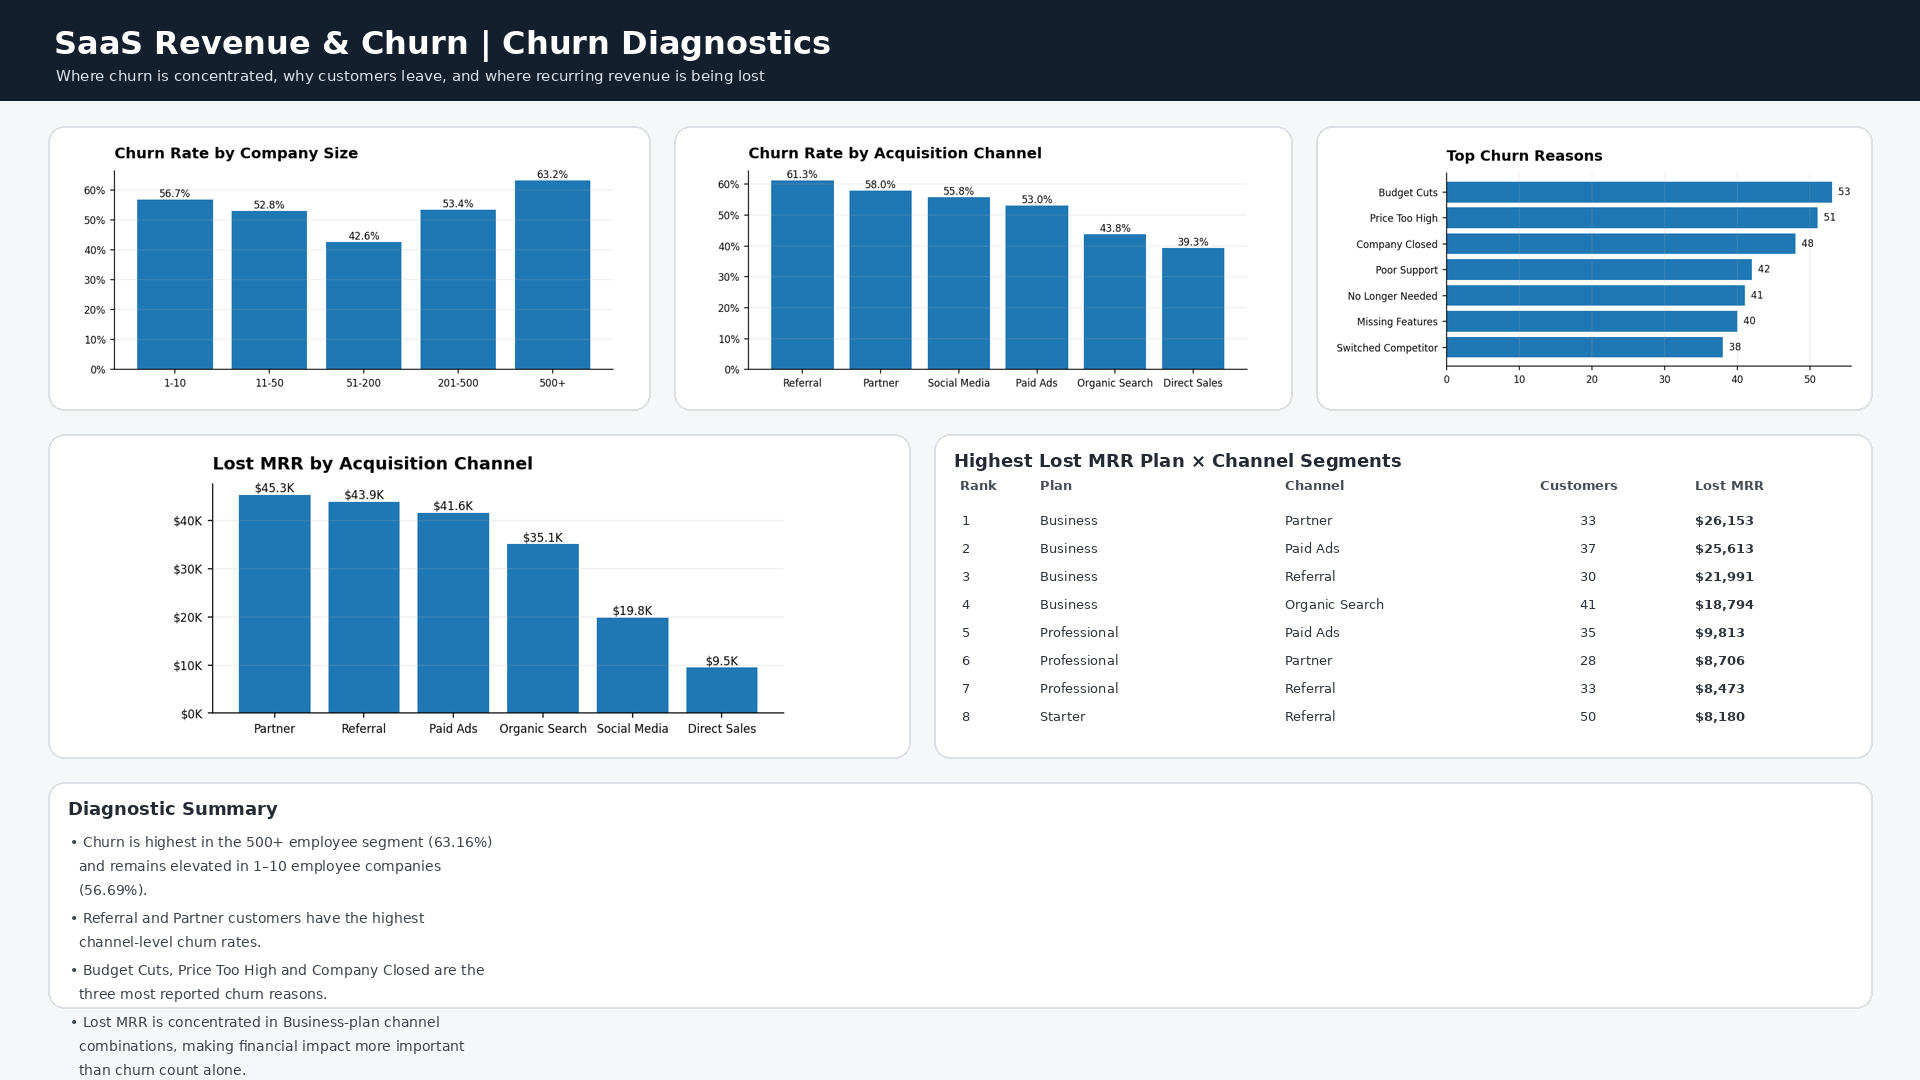

Layout of this report page (visuals, bound fields, positions):
{"tool":"powerbi","page":{"name":"Churn Diagnostics","canvas":[1920,1080],"ordinal":1},"visuals":[{"type":"textbox","box":[10,0,280,280],"z":0},{"type":"textbox","box":[16,16,1880,50],"z":1000},{"type":"clusteredColumnChart","title":"Churn Rate by Company Size","fields":{"Category":["subscriptions.company_size"],"Y":["subscriptions.Churn Rate"]},"box":[16,90,610,230],"z":2000},{"type":"clusteredColumnChart","title":"Churn Rate by Acquisition Channel","fields":{"Category":["subscriptions.acquisition_channel"],"Y":["subscriptions.Churn Rate"]},"box":[642,90,610,230],"z":3000},{"type":"barChart","title":"Top Churn Reasons","fields":{"Category":["subscriptions.churn_reason"],"Y":["subscriptions.Churned Customers"]},"box":[1268,90,610,230],"z":4000},{"type":"pivotTable","title":"Churn Rate: Plan × Acquisition Channel","fields":{"Columns":["subscriptions.acquisition_channel"],"Rows":["subscriptions.plan"],"Values":["subscriptions.Churn Rate"]},"box":[16,345,930,260],"z":5000},{"type":"clusteredColumnChart","title":"Lost MRR by Acquisition Channel","fields":{"Category":["subscriptions.acquisition_channel"],"Y":["subscriptions.Lost MRR"]},"box":[962,345,930,260],"z":6000},{"type":"textbox","box":[16,620,1876,80],"z":7000}]}

Visuals, with their boxes in screenshot pixels (x1, y1, x2, y2), scaled from the page's 1920x1080 canvas onto the 1920x1080 screenshot:
textbox: bbox=[10, 0, 290, 280]
textbox: bbox=[16, 16, 1896, 66]
"Churn Rate by Company Size" clusteredColumnChart: bbox=[16, 90, 626, 320]
"Churn Rate by Acquisition Channel" clusteredColumnChart: bbox=[642, 90, 1252, 320]
"Top Churn Reasons" barChart: bbox=[1268, 90, 1878, 320]
"Churn Rate: Plan × Acquisition Channel" pivotTable: bbox=[16, 345, 946, 605]
"Lost MRR by Acquisition Channel" clusteredColumnChart: bbox=[962, 345, 1892, 605]
textbox: bbox=[16, 620, 1892, 700]
